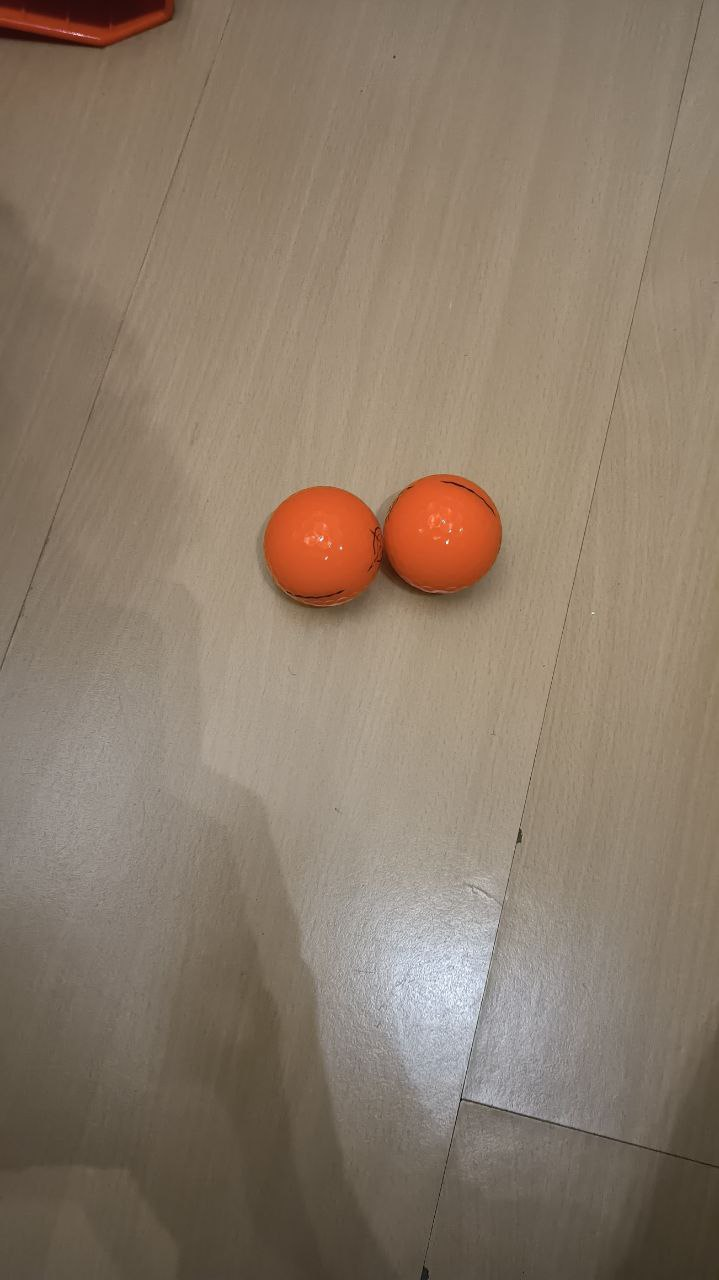orange_ball: (263, 485, 384, 608), (384, 474, 502, 594)
